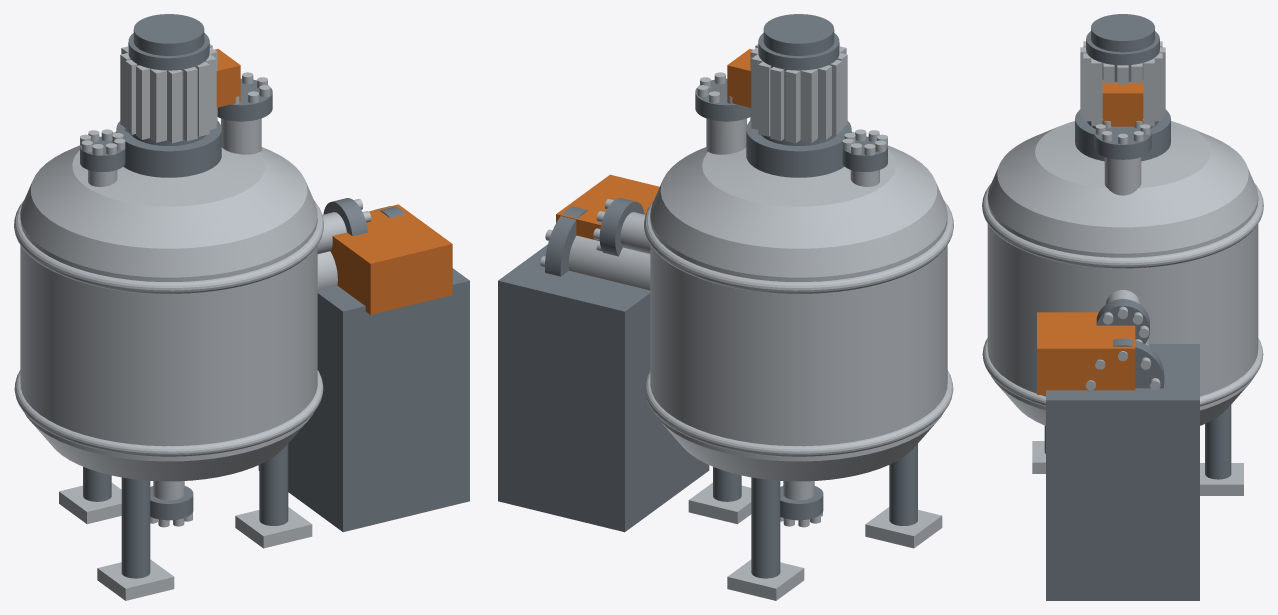
File: rmg.glb
3 views of the same model, side by side, from view 1: azimuth 30°, elevation 25°; view 2: azimuth 150°, elevation 25°; view 3: azimuth 270°, elevation 25° (orthographic). The views are drawn at different scales.
Parts seen in each view (by area): view 1: rmg; view 2: rmg; view 3: rmg.
Boxes of the visible parts, box(x1,y1,x2,y2) form: rmg: box(14, 14, 469, 600); rmg: box(498, 14, 953, 600); rmg: box(982, 14, 1263, 600).
Size of the model in its own units: 2 by 2.5 by 1.37.
